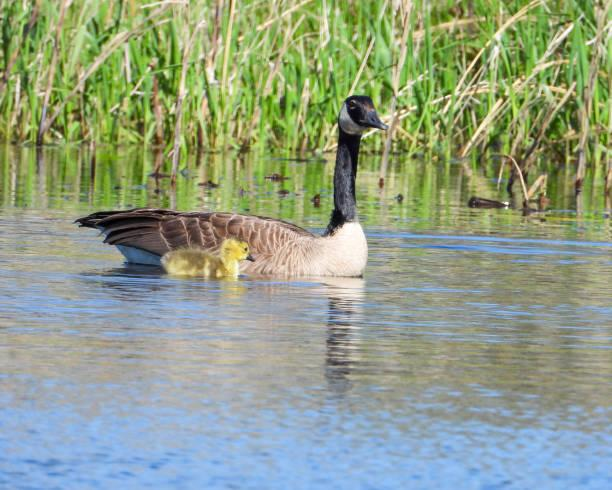Canadian-Goose: (91, 92, 393, 290), (168, 238, 248, 277)
